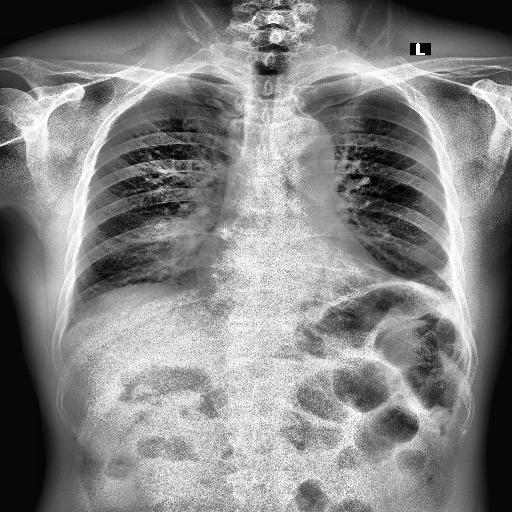0- Aortic enlargement: (270, 115, 334, 180), (280, 114, 336, 185), (280, 118, 334, 166)
10- Pleural effusion: (388, 250, 460, 304)
11- Pleural thickening: (388, 250, 460, 304)
13- Pulmonary fibrosis: (403, 269, 453, 292)
3- Cardiomegaly: (196, 240, 398, 310)
4- Consolidation: (410, 264, 454, 290)
7- Lung Opacity: (412, 270, 458, 302), (410, 264, 454, 290)
